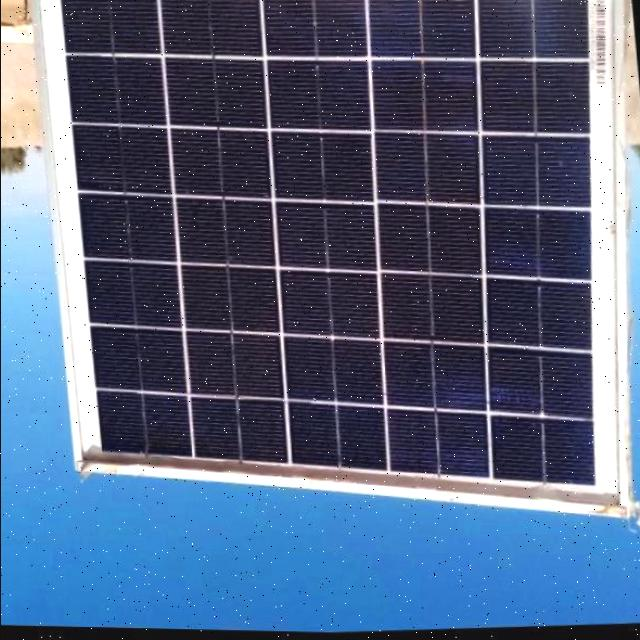Normal Solar Panel: (35, 1, 640, 546)
